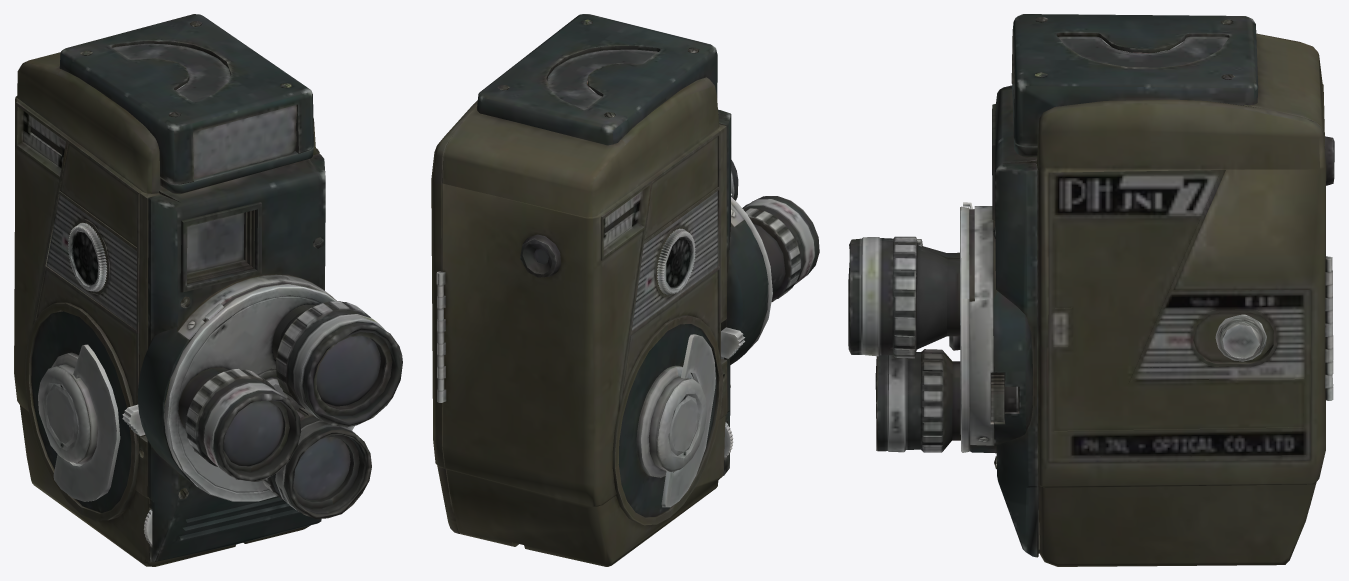
Rendered from vintage_video_camera.glb.
The picture shows the model from 3 angles, left to right: view 1: azimuth 30°, elevation 25°; view 2: azimuth 150°, elevation 25°; view 3: azimuth 270°, elevation 25°; orthographic projection. The views are drawn at different scales.
Parts seen in each view (by area): view 1: vintage_video_camera; view 2: vintage_video_camera; view 3: vintage_video_camera.
Part boxes in pixels (x1=…): vintage_video_camera: x1=14, y1=14, x2=402, y2=566; vintage_video_camera: x1=431, y1=14, x2=819, y2=566; vintage_video_camera: x1=848, y1=14, x2=1334, y2=566.
Bounding box in the file's own units: 0.0712 × 0.1448 × 0.1326.
2 materials, 2 textured.
